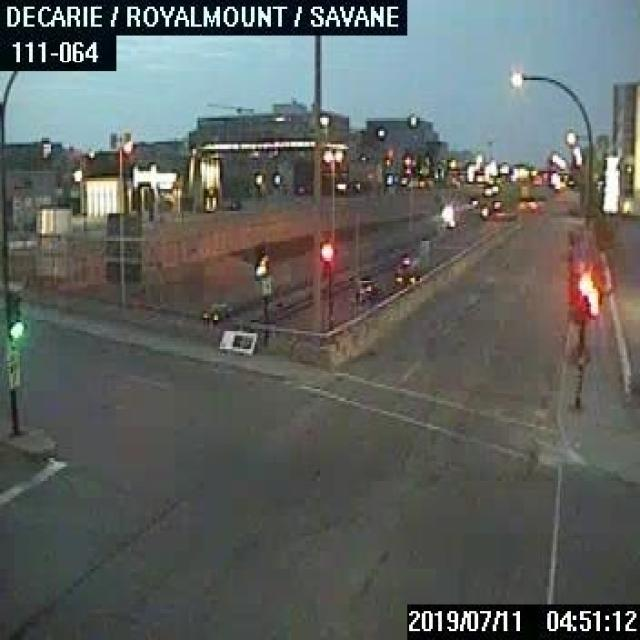vehicle: (389, 258, 420, 284), (200, 298, 233, 320), (355, 278, 378, 302)
